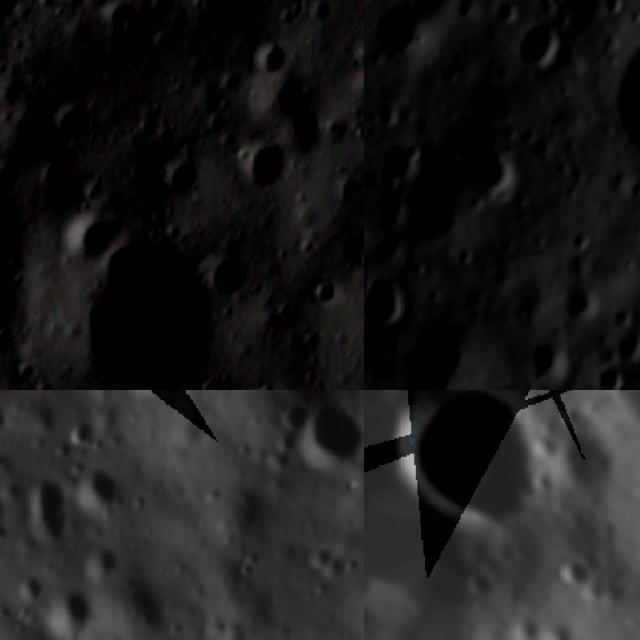crater: (366, 390, 595, 577), (37, 235, 211, 390), (177, 0, 298, 47), (400, 319, 477, 390), (398, 177, 466, 245), (365, 1, 436, 64), (610, 26, 640, 174), (237, 135, 305, 197), (544, 542, 608, 607), (67, 204, 132, 266), (306, 401, 364, 469), (462, 140, 520, 207), (203, 252, 270, 309), (364, 270, 412, 336), (154, 152, 210, 206), (511, 24, 565, 80), (26, 482, 70, 546), (51, 580, 97, 633), (306, 272, 358, 315), (378, 142, 420, 185), (527, 338, 572, 378), (86, 468, 126, 512), (560, 284, 598, 323), (368, 99, 404, 132), (562, 226, 596, 259), (592, 365, 629, 390), (12, 569, 40, 602), (278, 402, 305, 432), (615, 336, 640, 363), (607, 308, 634, 333), (599, 0, 622, 20), (625, 179, 640, 207), (630, 233, 640, 262)
